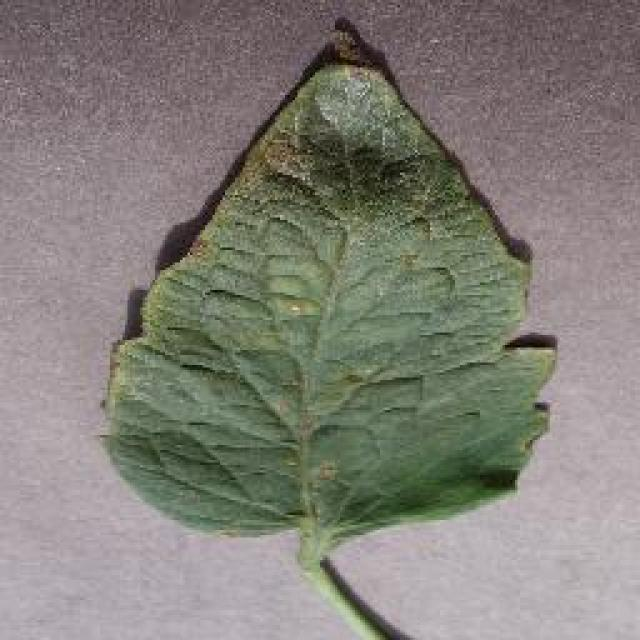Tomato___Target_Spot: (105, 20, 555, 638)
